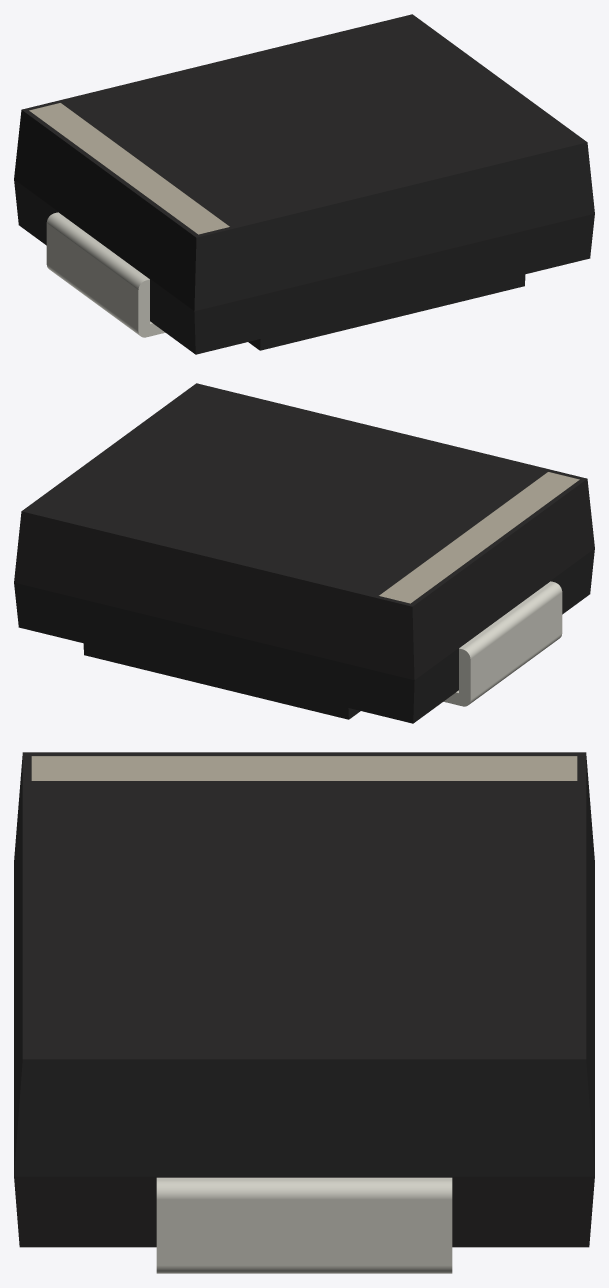
File: D_SMC.glb
3 renders of one model, top to bottom at view 1: azimuth 30°, elevation 25°; view 2: azimuth 150°, elevation 25°; view 3: azimuth 270°, elevation 25°, orthographic. The views are drawn at different scales.
Parts seen in each view (by area): view 1: =>[0:1:1:3]; view 2: =>[0:1:1:3]; view 3: =>[0:1:1:3].
Part boxes in pixels (left/top/right/bottom): =>[0:1:1:3]: left=14, top=14, right=594, bottom=354; =>[0:1:1:3]: left=14, top=383, right=594, bottom=723; =>[0:1:1:3]: left=14, top=752, right=594, bottom=1273.
Bounding box in the file's own units: 0.008 × 0.00231 × 0.0059.
